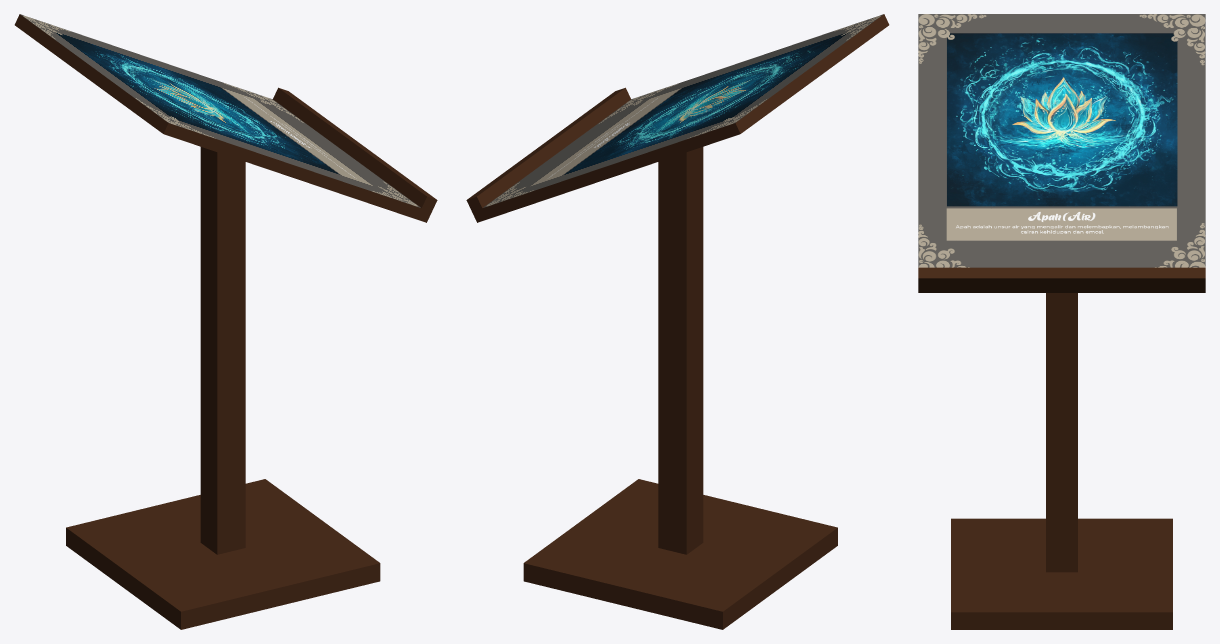
Rendered from Apah.glb.
3 renders of one model, left to right at view 1: azimuth 30°, elevation 25°; view 2: azimuth 150°, elevation 25°; view 3: azimuth 270°, elevation 25°, orthographic. The views are drawn at different scales.
Parts seen in each view (by area): view 1: Cube.001, Cube.002, Cube; view 2: Cube.001, Cube.002, Cube; view 3: Cube.002, Cube.001, Cube.
Boxes of the visible parts, left/top/right/bottom form: Cube.001: left=66, top=479, right=380, bottom=629; Cube.002: left=14, top=14, right=437, bottom=222; Cube: left=200, top=147, right=245, bottom=554; Cube.001: left=523, top=479, right=837, bottom=629; Cube.002: left=466, top=14, right=889, bottom=222; Cube: left=658, top=147, right=703, bottom=554; Cube.002: left=918, top=14, right=1205, bottom=292; Cube.001: left=951, top=518, right=1172, bottom=629; Cube: left=1046, top=293, right=1077, bottom=572.
Size of the model in its own units: 0.6504 by 1.19 by 0.6117.
2 materials, 1 textured.
